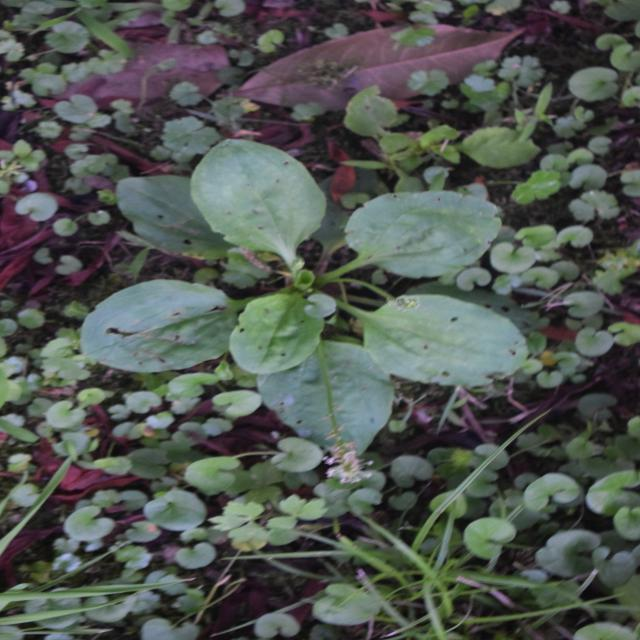plantain: (186, 102, 486, 539)
